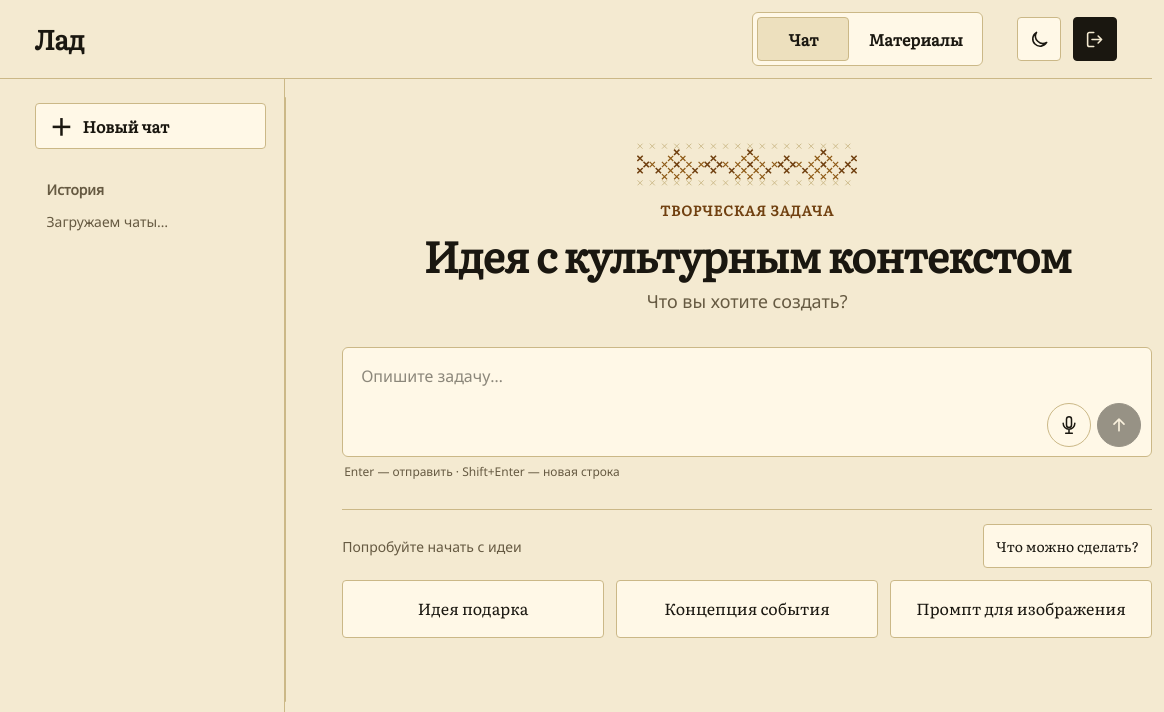
it: visual match opens the exact approved PDF page
Click the button "Материалы".
click(916, 39)  # box [853,17,978,61]
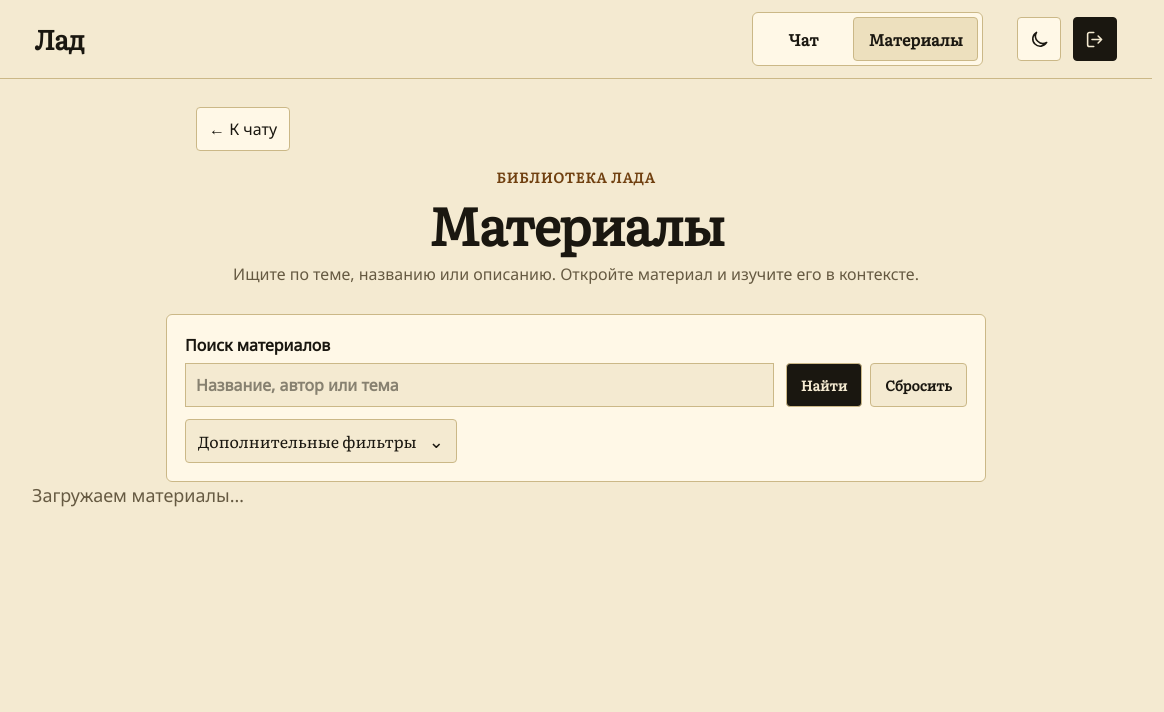
Type "red circle" into the field labelled "Поиск материалов".
click(479, 385); type("red circle")  # box [185,363,774,407]
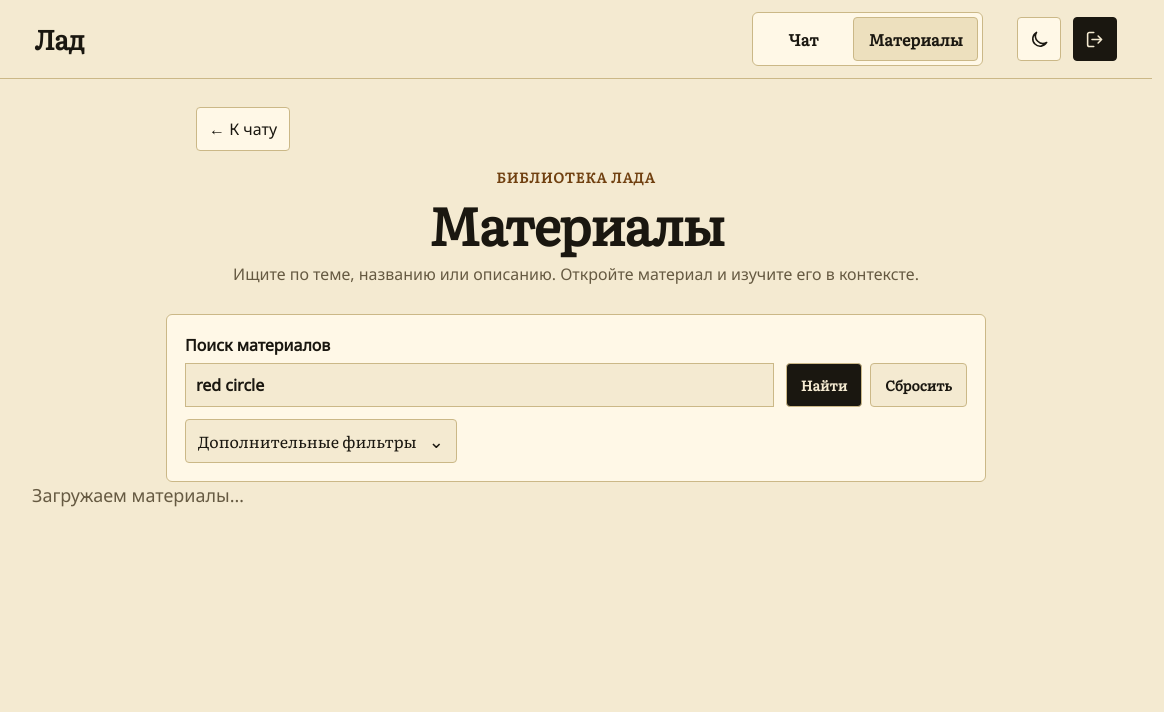
Click the button "Найти".
click(824, 385)  # box [786,363,862,407]
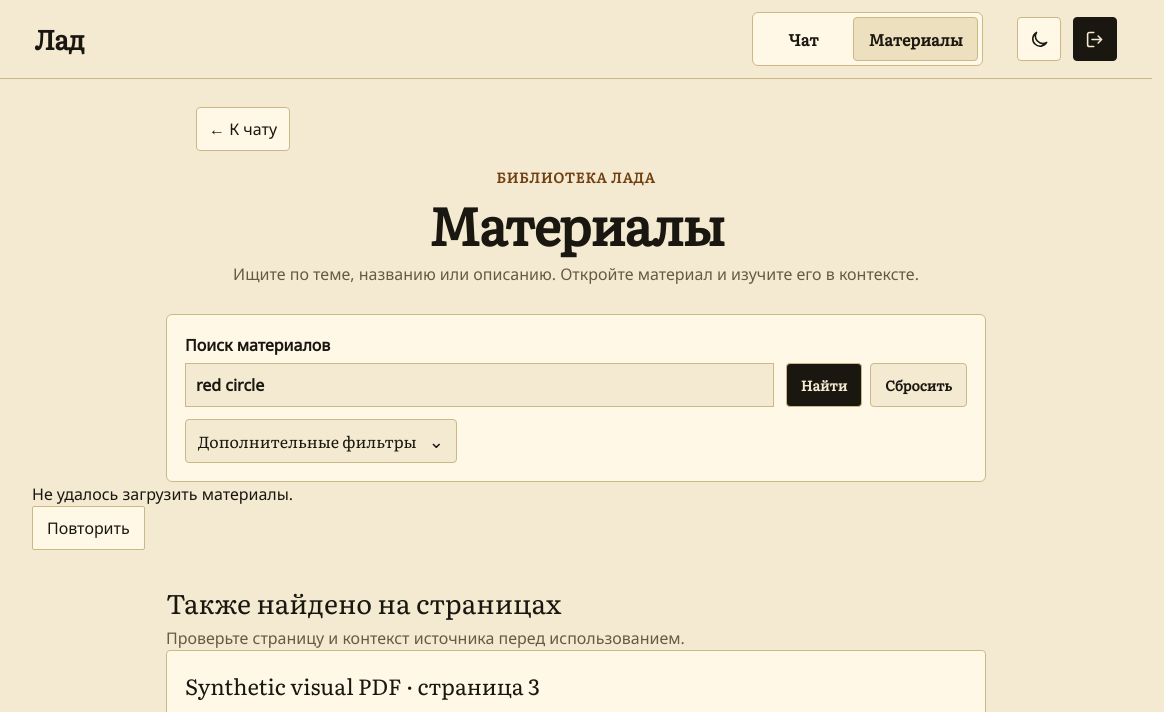
Check: the text "Проверьте страницу и контекст" is shown, box [166,627,685,649]
